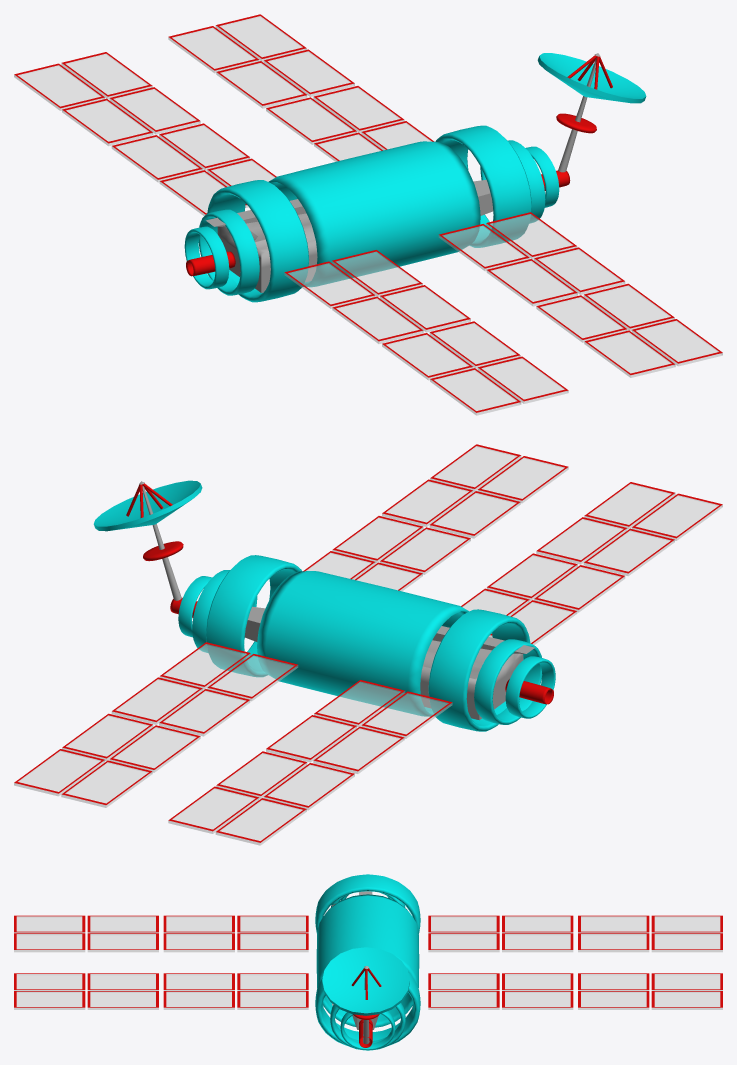
File: Spaceship1_Combined.fbx
The picture shows the model from 3 angles, top to bottom: view 1: azimuth 30°, elevation 25°; view 2: azimuth 150°, elevation 25°; view 3: azimuth 270°, elevation 25°; orthographic projection. The views are drawn at different scales.
Parts seen in each view (by area): view 1: Wing1_transform1; view 2: Wing1_transform1; view 3: Wing1_transform1.
Boxes of the visible parts, box(x1,y1,x2,y2) form: Wing1_transform1: box(14, 14, 722, 415); Wing1_transform1: box(14, 444, 722, 845); Wing1_transform1: box(14, 874, 722, 1050).
Bounding box in the file's own units: 23.35 × 7.87 × 41.72.
